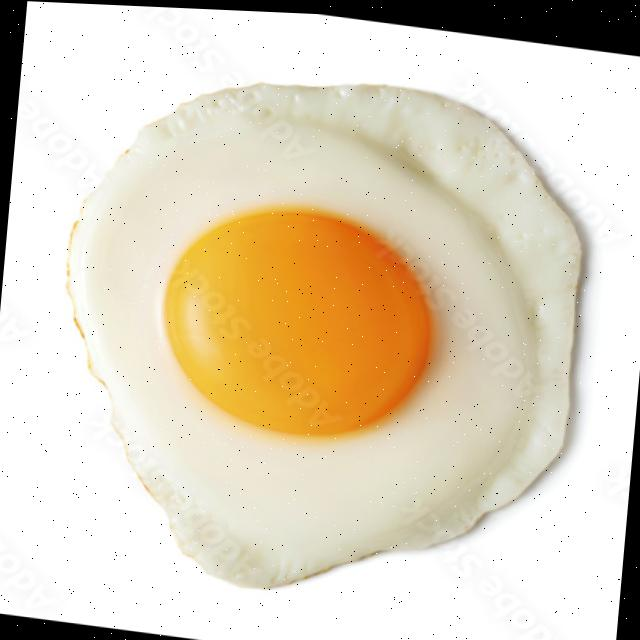Egg: (68, 80, 581, 583)
